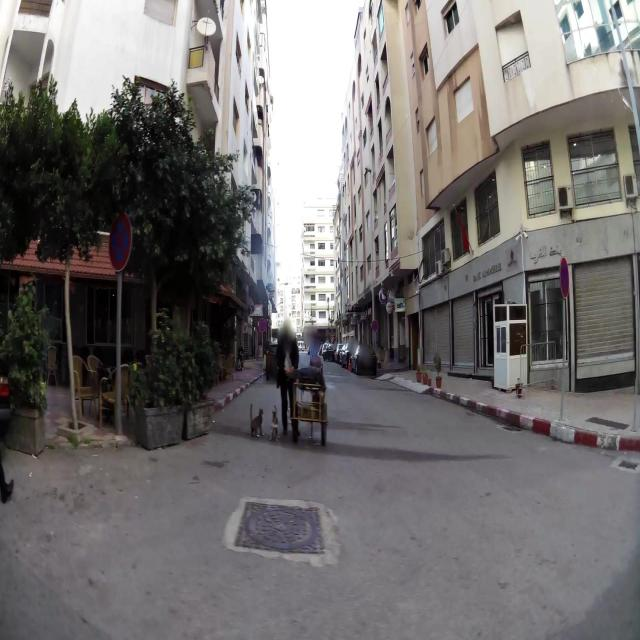forb_stopping: (560, 258, 569, 296)
forb_waiting: (109, 216, 130, 273)
